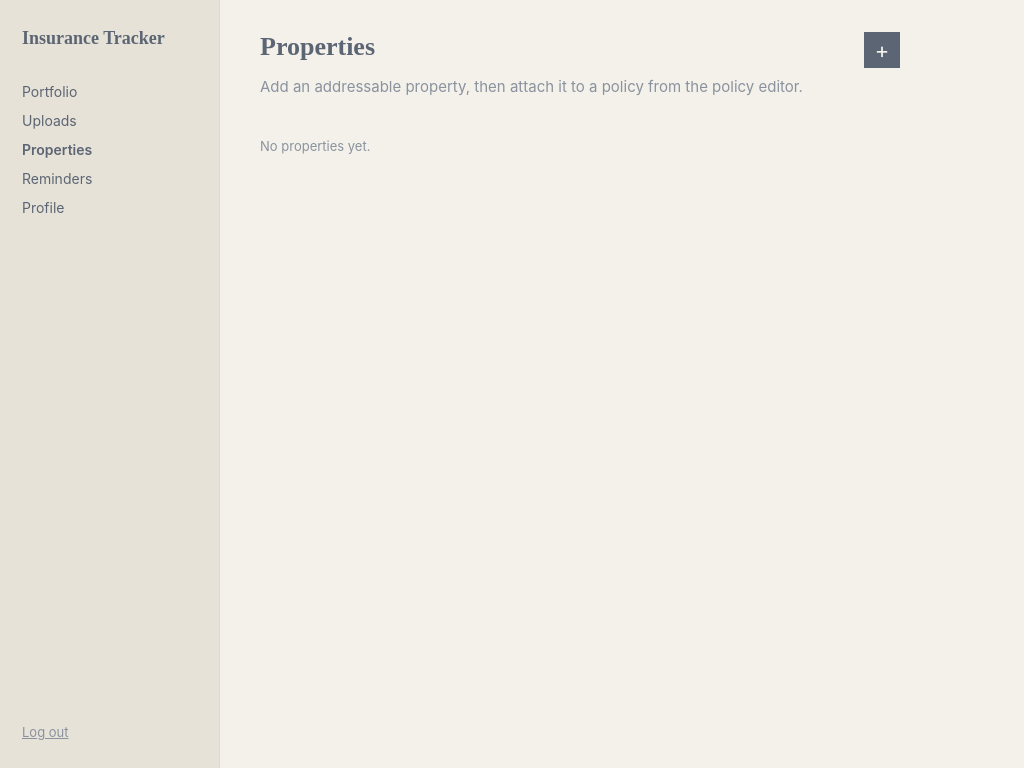
Test case: portfolio management › creates a property and shows it on /properties
Expected: the heading "Properties" is shown, x1=260 y1=32 x2=375 y2=62
Expected: the text "Cove Plaza" is not shown
Click the link named "add property". click: (882, 50)
box: x1=864 y1=32 x2=900 y2=68
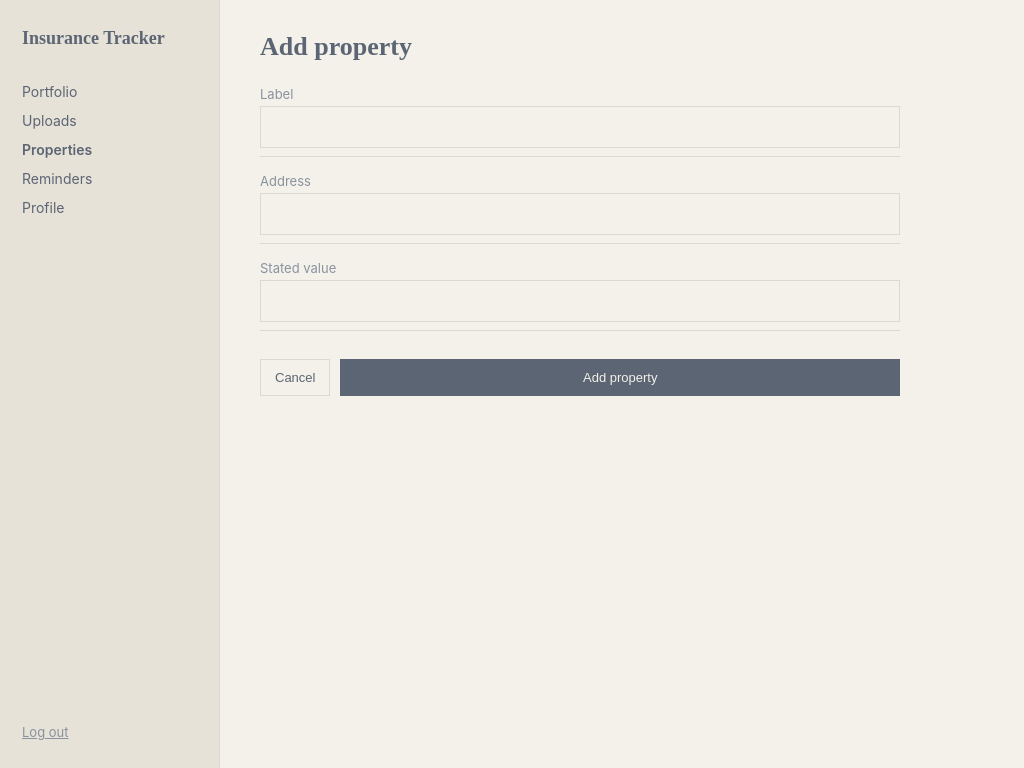
Type "Cove Plaza" into the field labelled "Label". click: (580, 127)
box: x1=260 y1=106 x2=900 y2=148
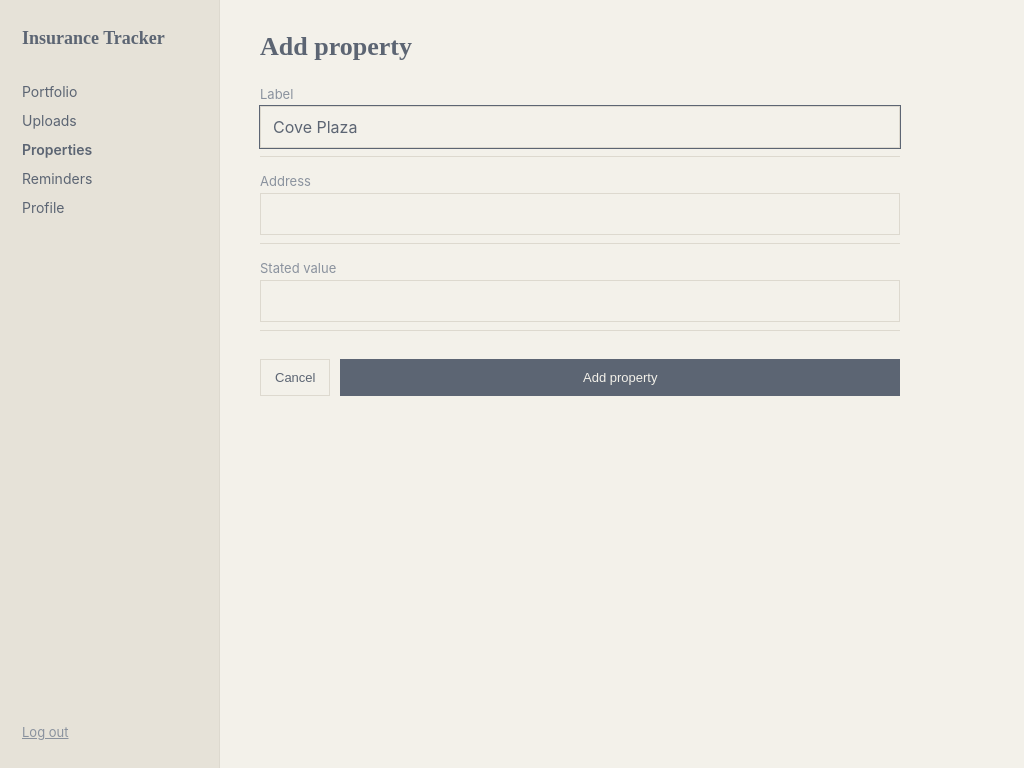
Type "100 Harbor Cove Drive" into the field labelled "Address". click: (580, 214)
box: x1=260 y1=193 x2=900 y2=235
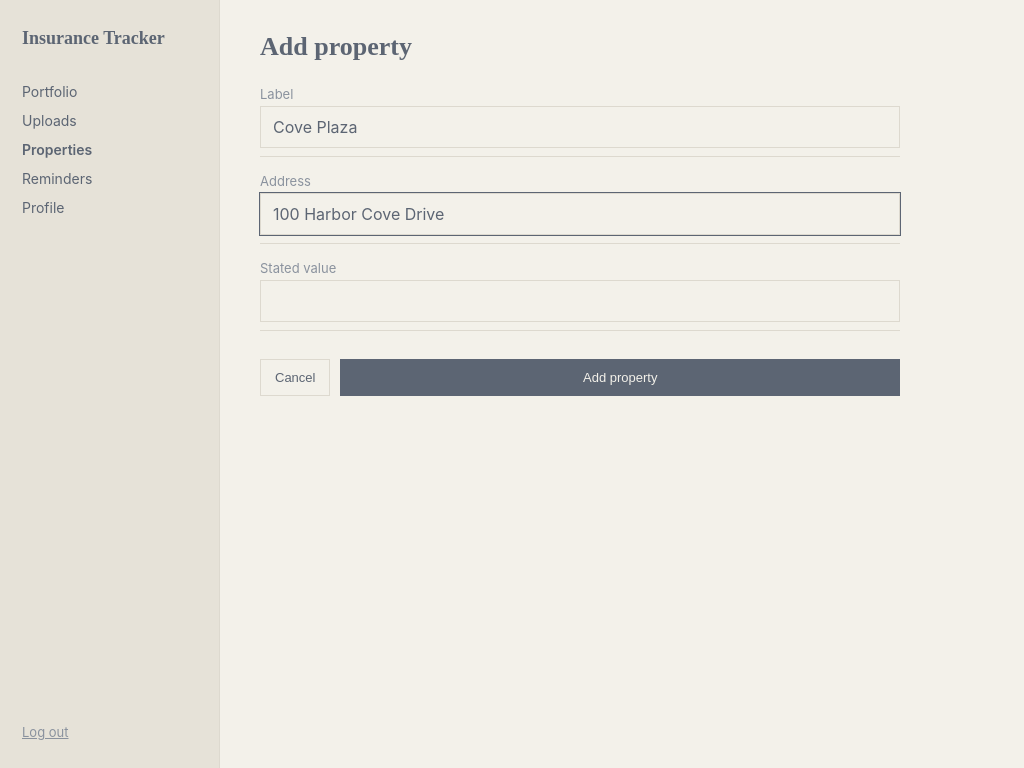
Type "25000000.00" into the field labelled "Stated value". click: (580, 301)
box: x1=260 y1=280 x2=900 y2=322
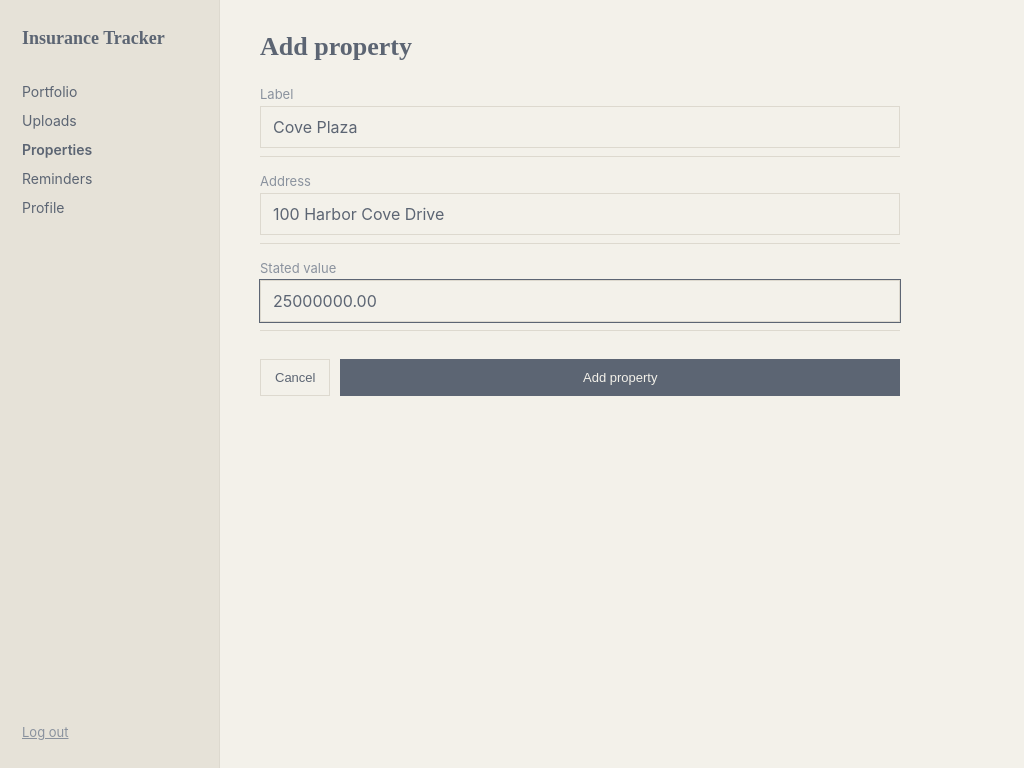
Click the button "Add property". click: (620, 377)
box: x1=340 y1=359 x2=900 y2=396
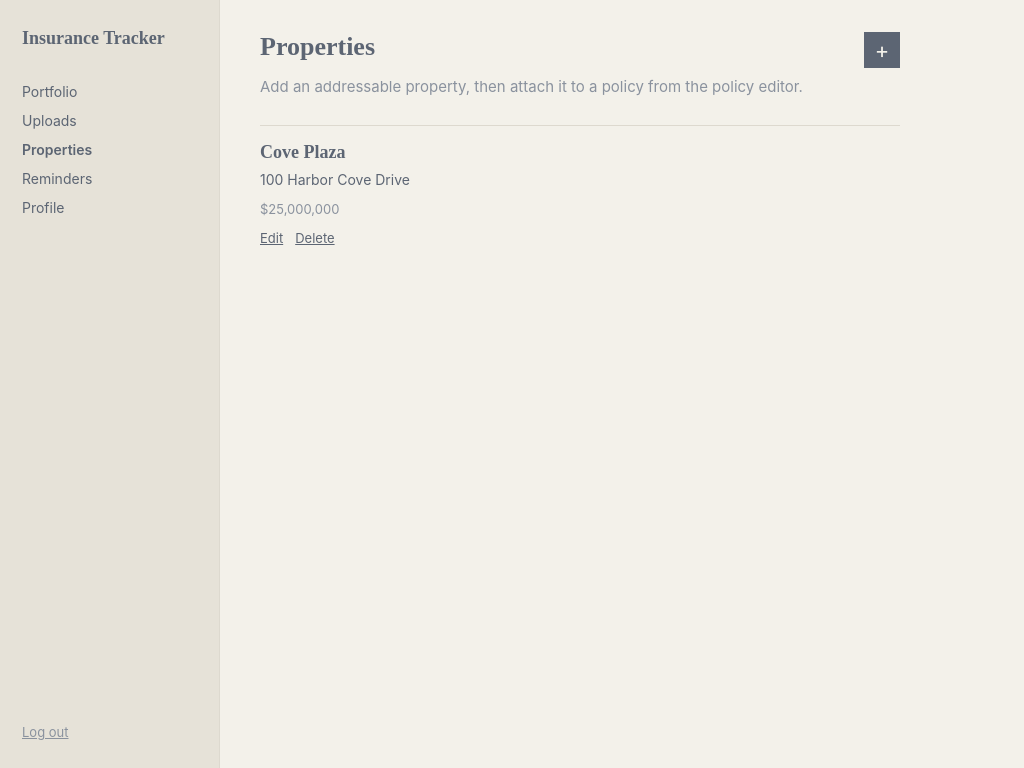
Result: the heading "Cove Plaza" is shown at x1=260 y1=142 x2=346 y2=163
Result: the element named "properties" shows "Cove Plaza" at x1=260 y1=142 x2=346 y2=162
Result: the element named "properties" shows "100 Harbor Cove Drive" at x1=260 y1=171 x2=410 y2=188
